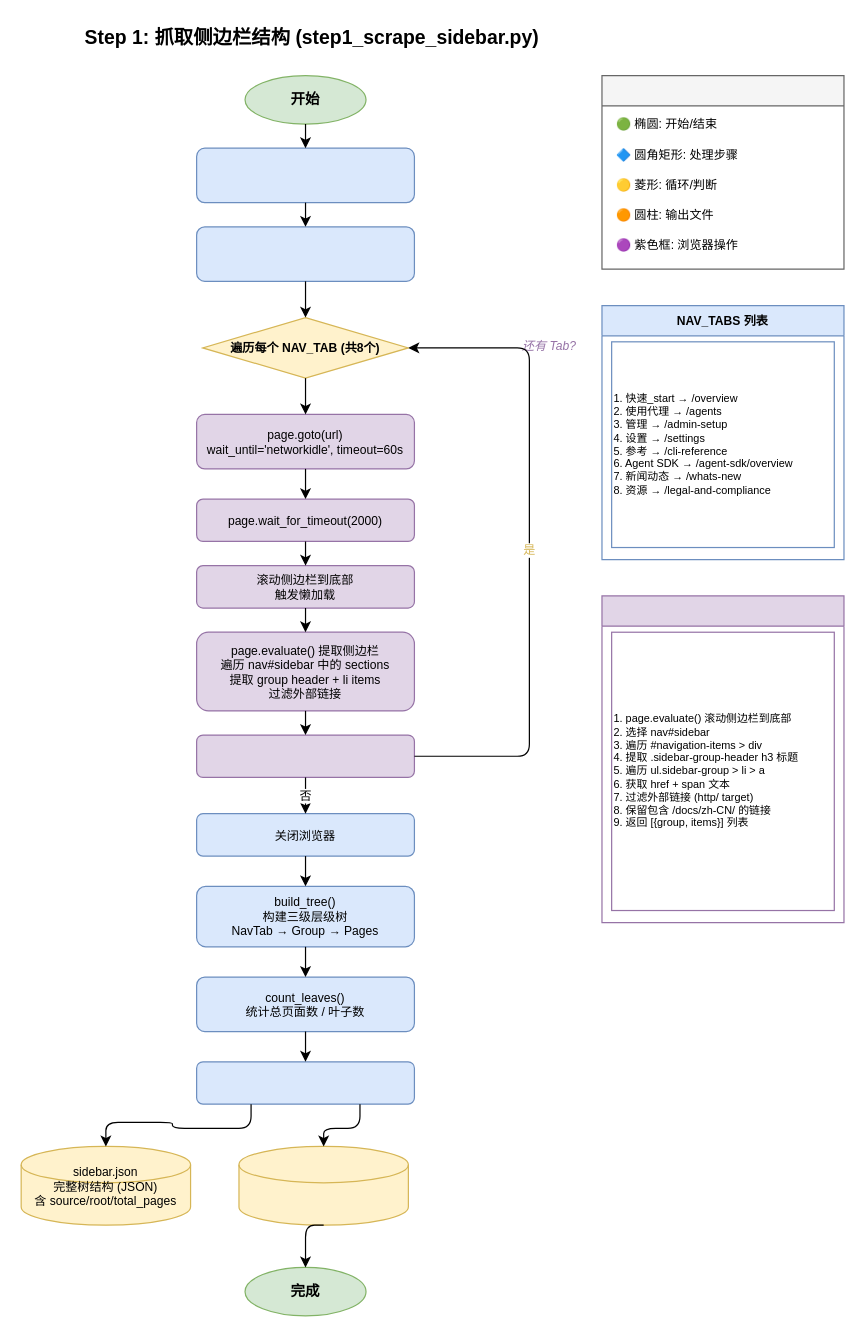
This 865x1337 diagram has some shape labels left out. Each missing label, with the box of its shape:
clean_tree() 清除空 href: (195, 1061, 414, 1104)
extract_sidebar_groups() 详情: (601, 595, 844, 923)
sidebar.md Markdown TOC - 嵌套列表 + 链接: (238, 1145, 408, 1225)
启动 Playwright Chromium headless=True, viewport=1600x900: (195, 226, 414, 281)
图例说明: (601, 74, 844, 269)
定义 NAV_TABS 8个导航Tab + 起始URL: (195, 147, 414, 203)
统计本页唯一页面数 去重 seen_hrefs: (195, 734, 414, 777)
